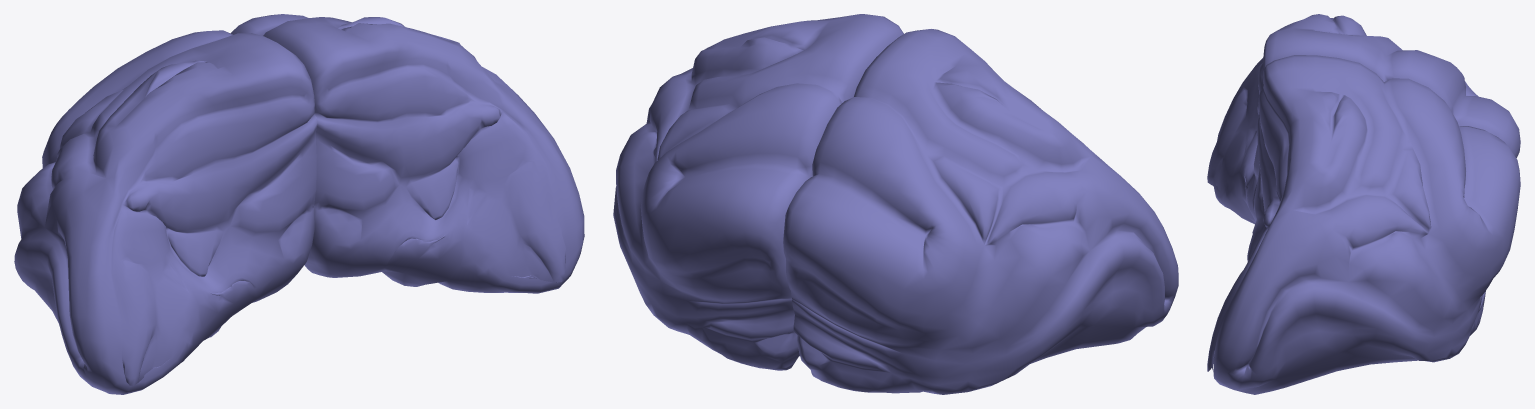
Rendered from Parietal_Lobe_Trans.gltf.
3 renders of one model, left to right at view 1: azimuth 30°, elevation 25°; view 2: azimuth 150°, elevation 25°; view 3: azimuth 270°, elevation 25°, orthographic. The views are drawn at different scales.
Visible parts, largest first — view 1: Parietal_Lobe_Right, Parietal_Lobe_Left; view 2: Parietal_Lobe_Right, Parietal_Lobe_Left; view 3: Parietal_Lobe_Left, Parietal_Lobe_Right.
Boxes of the visible parts, <box> form: Parietal_Lobe_Right: <box>14,30,317,394</box>; Parietal_Lobe_Left: <box>230,14,584,293</box>; Parietal_Lobe_Right: <box>783,29,1178,394</box>; Parietal_Lobe_Left: <box>613,14,903,370</box>; Parietal_Lobe_Left: <box>1207,55,1520,394</box>; Parietal_Lobe_Right: <box>1207,14,1520,224</box>.
Size of the model in its own units: 12.53 by 6.72 by 7.39.
